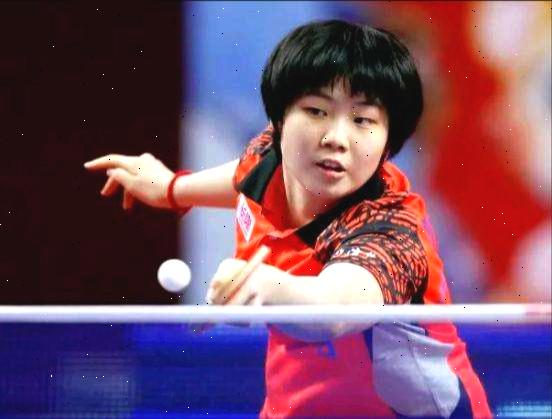ball: (155, 255, 193, 293)
